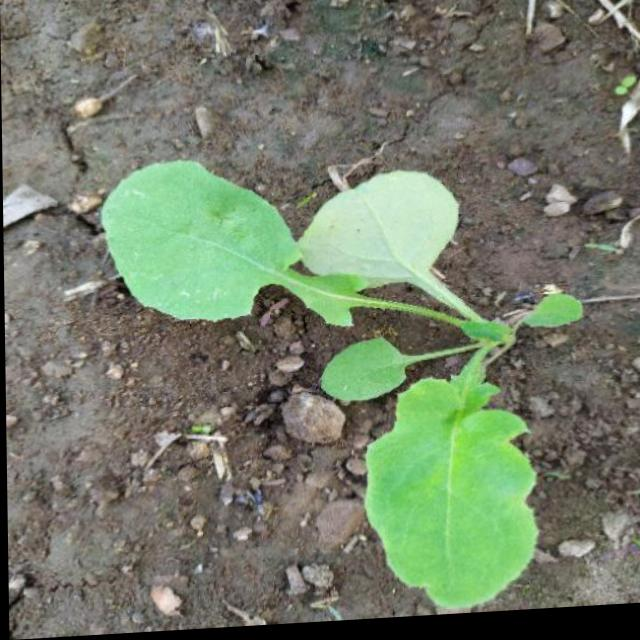weed: (96, 144, 589, 636)
